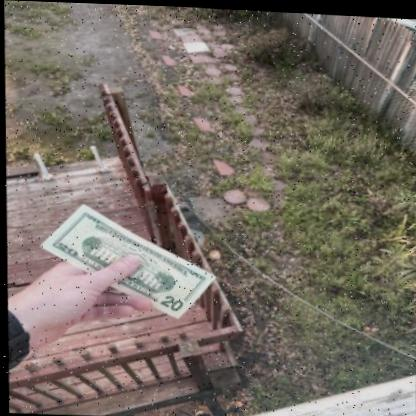twenty-back: (38, 203, 215, 318)
